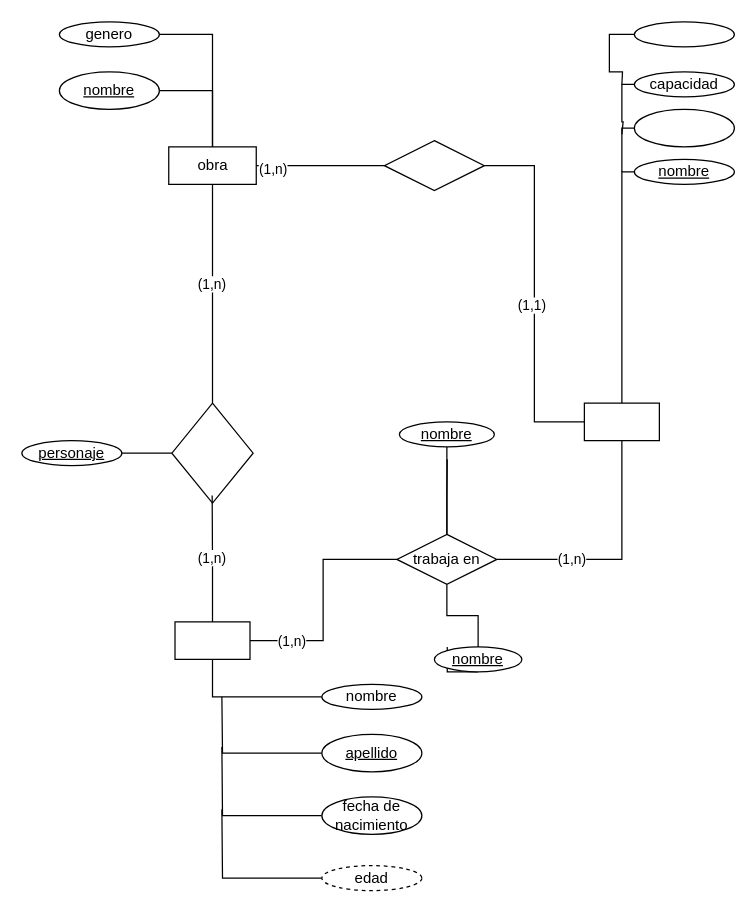
This 756x913 diagram has some shape labels left out. Each missing label, with the centre of its shape:
"actor" goes at point (212, 640).
"actua" goes at point (212, 452).
"ciudad" goes at point (683, 34).
"direccion" goes at point (683, 127).
"se presenta" goes at point (433, 165).
"Teatro" goes at point (621, 421).
